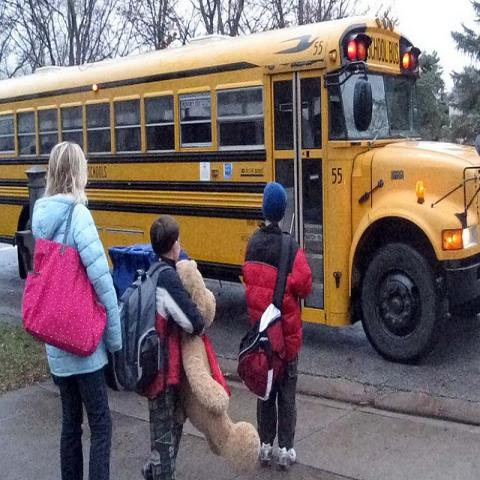bus: (1, 15, 479, 364)
